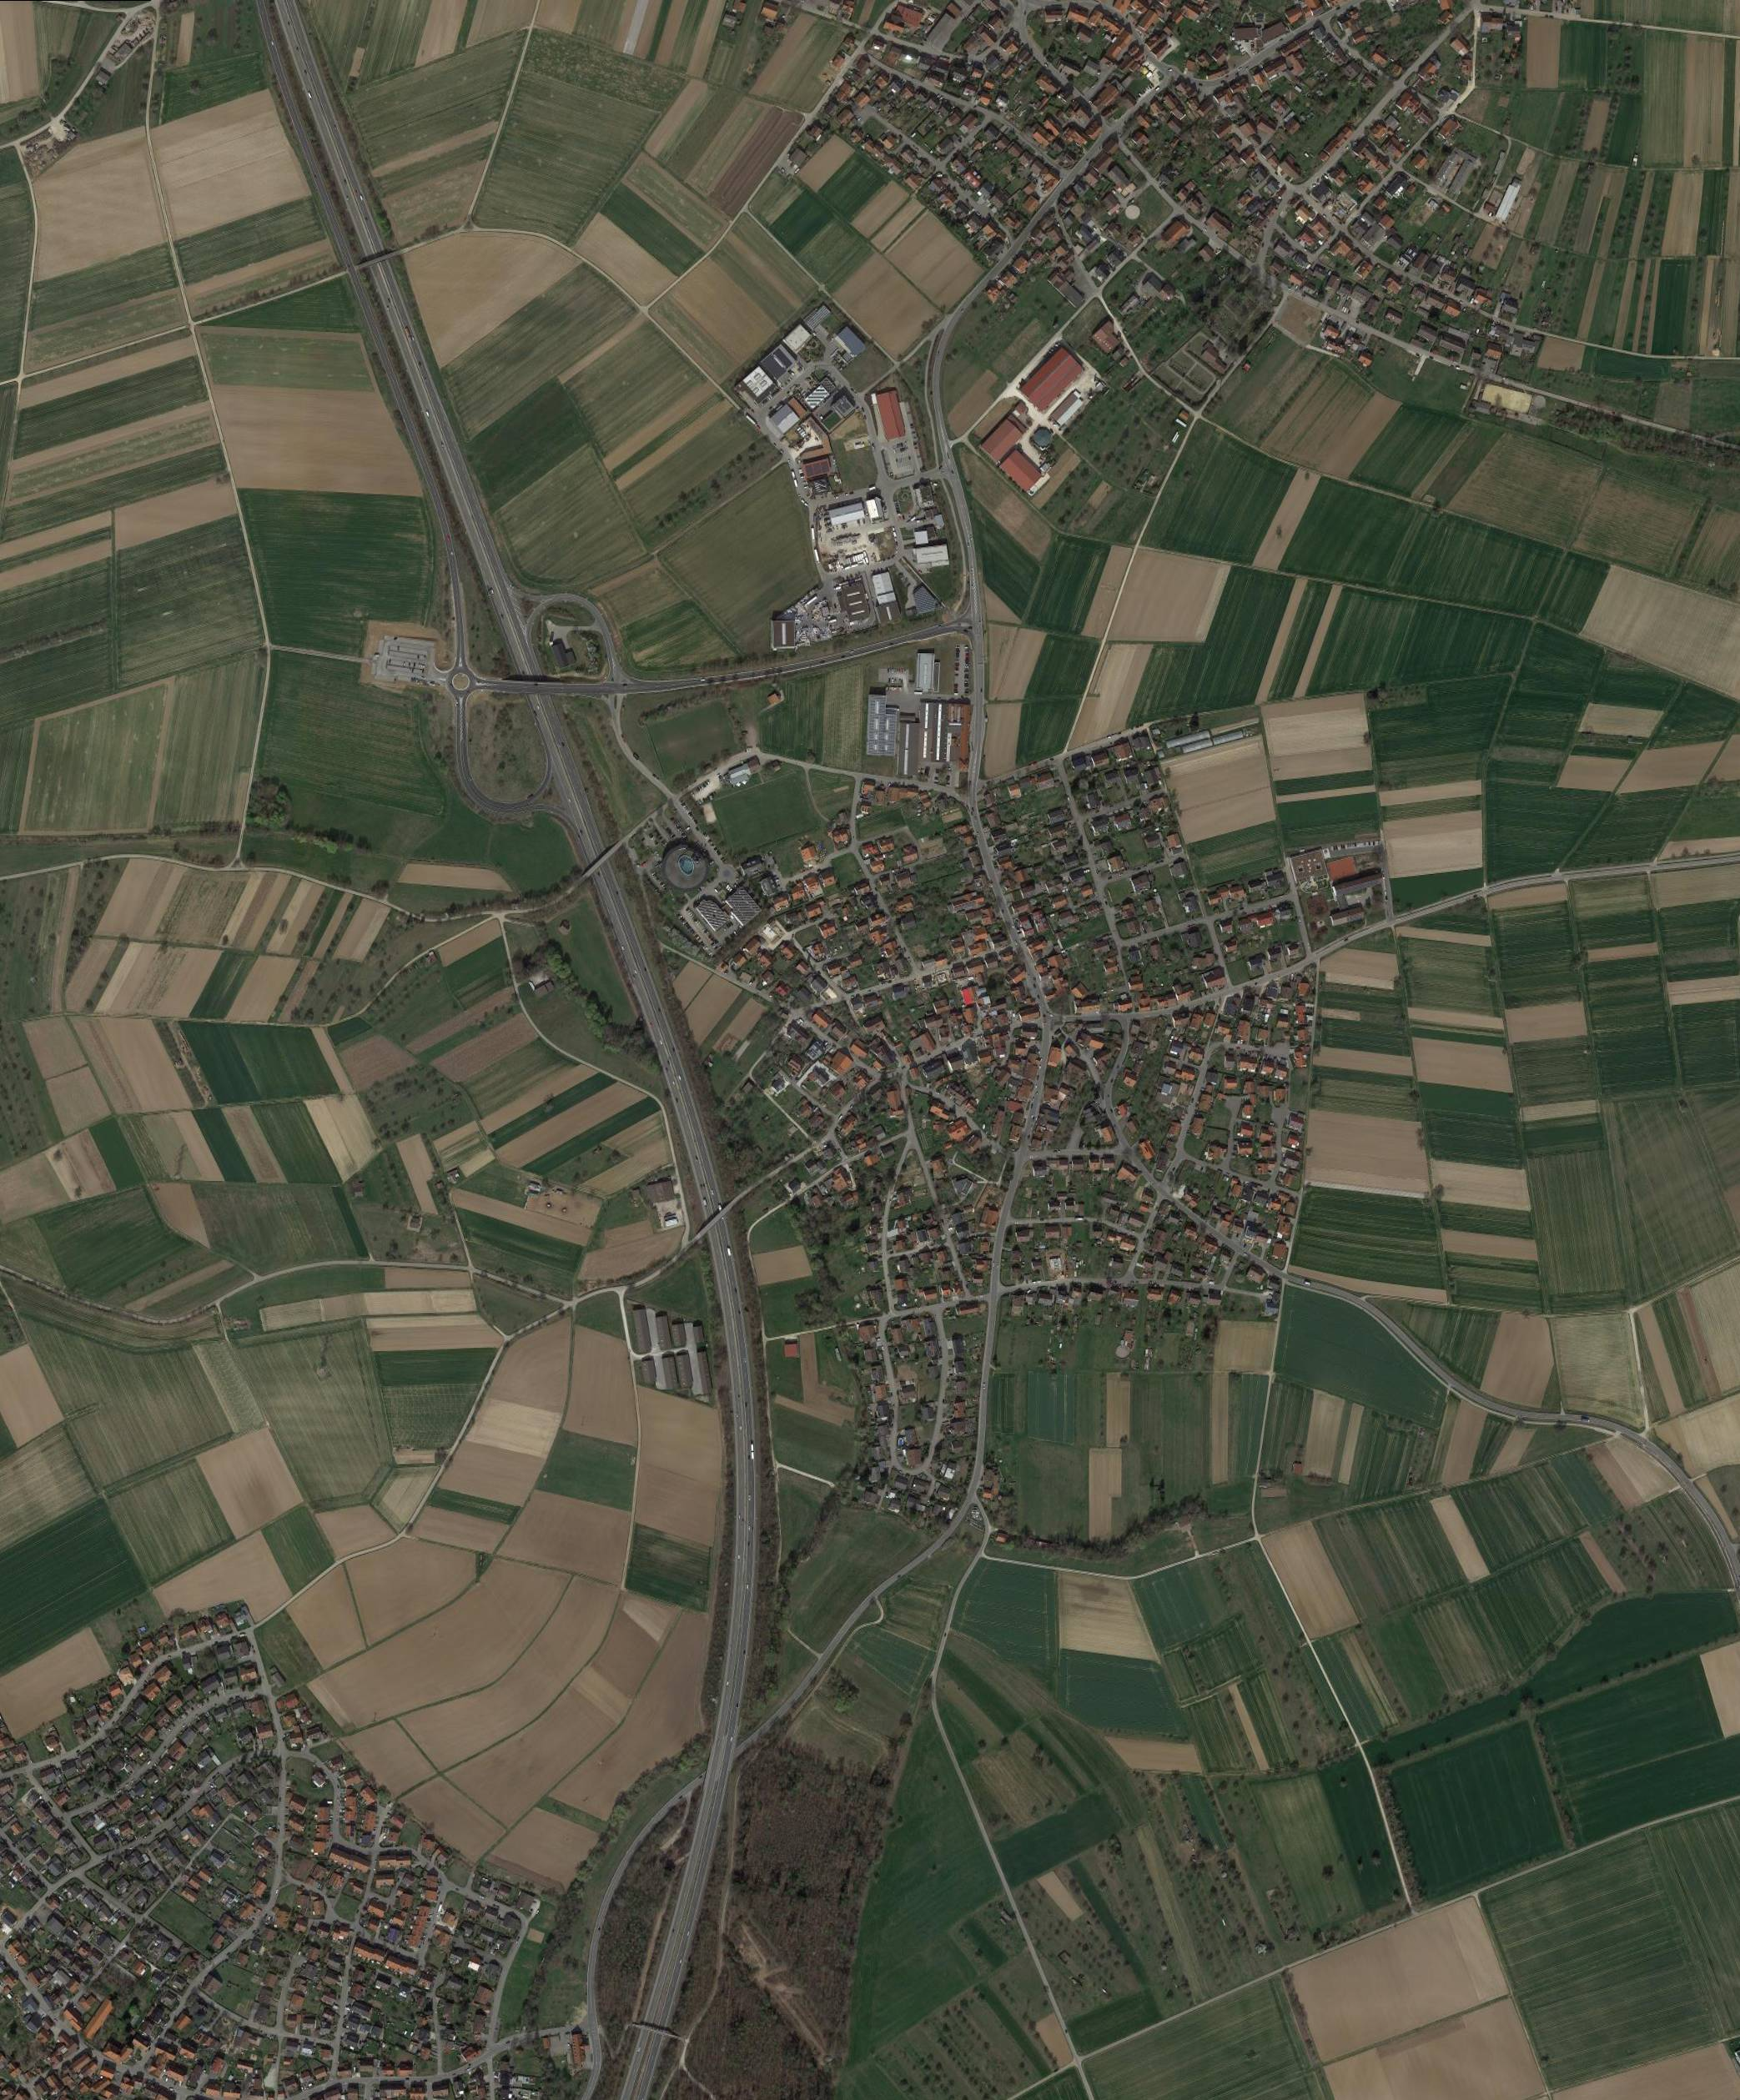roundabout: (442, 666, 480, 699)
